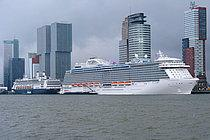Ship: (56, 49, 204, 99), (10, 70, 65, 95)
